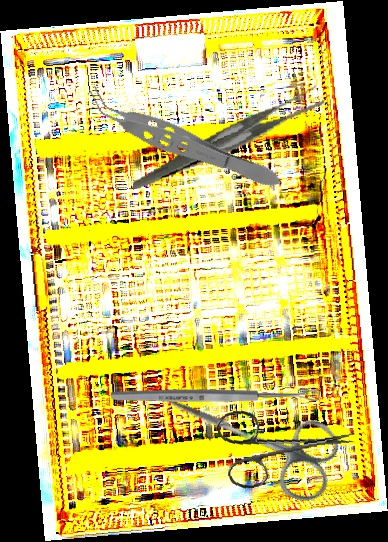Dressing Forceps: (122, 84, 333, 190)
Iris Scissors: (145, 364, 349, 508), (215, 397, 361, 491)
Surgical Spoon: (110, 389, 320, 403)
Tissue Forceps: (77, 83, 289, 199)
